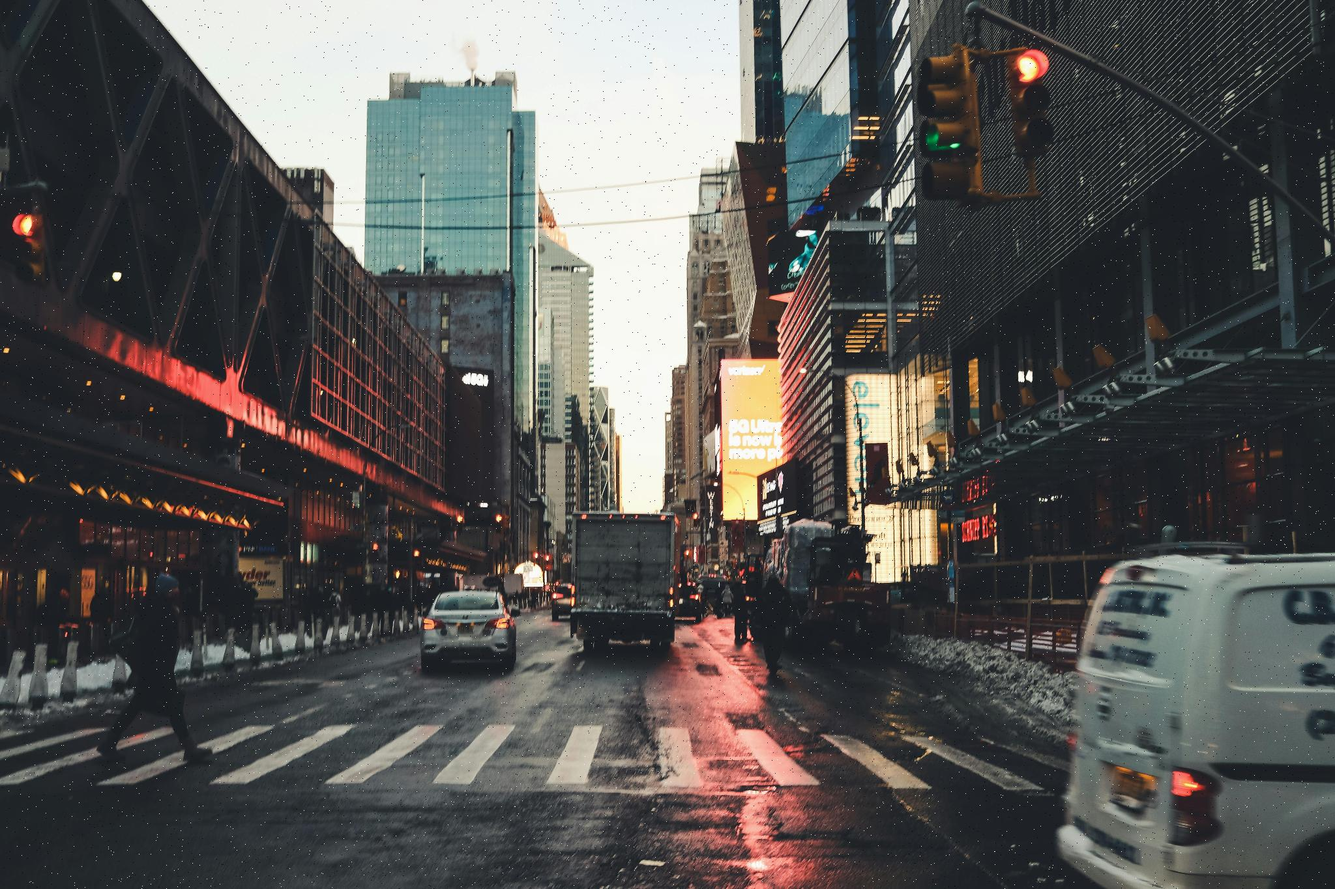car: (1070, 550, 1332, 886), (421, 591, 520, 672)
pedestrian: (109, 570, 194, 757), (757, 574, 790, 676)
